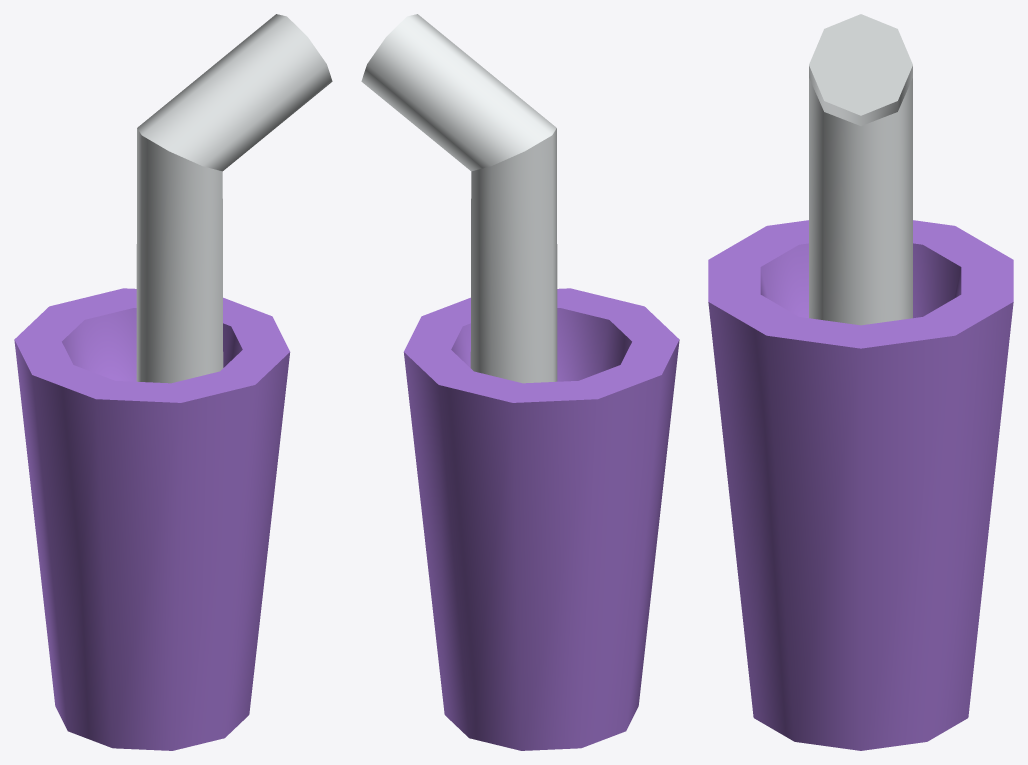
Rendered from glass01_s01.FBX.
3 renders of one model, left to right at view 1: azimuth 30°, elevation 25°; view 2: azimuth 150°, elevation 25°; view 3: azimuth 270°, elevation 25°, orthographic. The views are drawn at different scales.
Visible parts, largest first — view 1: glass01_s01; view 2: glass01_s01; view 3: glass01_s01.
Boxes of the visible parts, x1,y1,x2,y2 form: glass01_s01: (14, 14, 332, 750); glass01_s01: (361, 14, 679, 750); glass01_s01: (708, 14, 1013, 750).
Size of the model in its own units: 42.91 by 33.85 by 93.63.
1 material, 1 textured.
